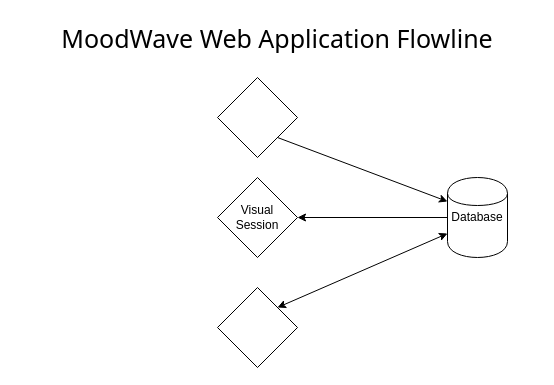
The diagram is 554 pixels wide and 385 high, and some of its shapes have lost their labels. Here are the shapes that lost their labels. From the top down, the box of each, then its label:
(216, 76, 298, 158): Prompts
(216, 286, 298, 368): Visual Analysis
